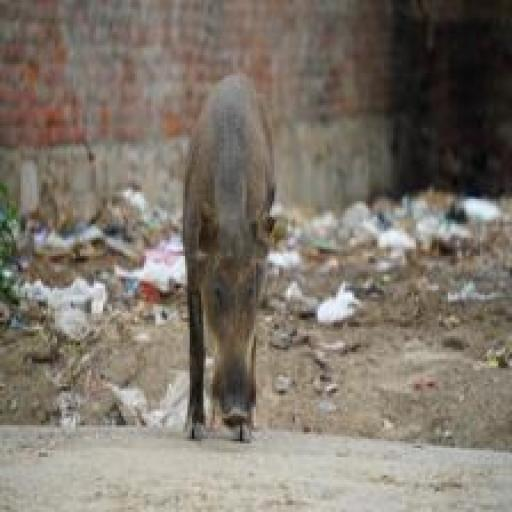Pig: (181, 62, 282, 446)
